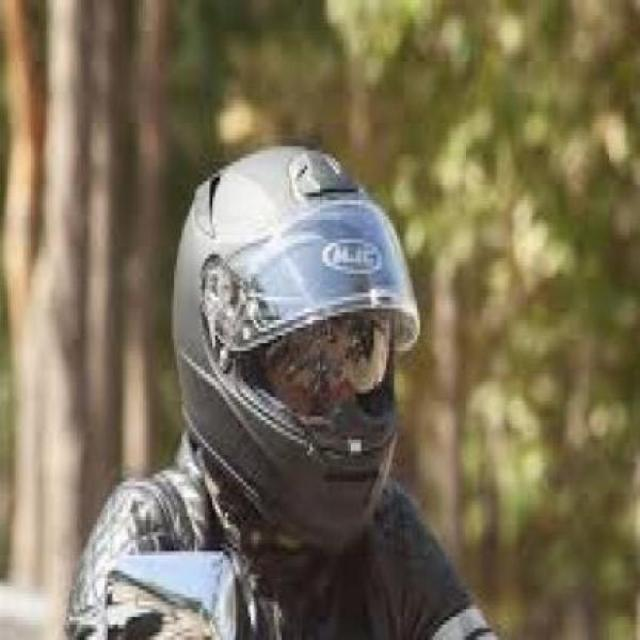Helmet: (161, 136, 426, 535)
